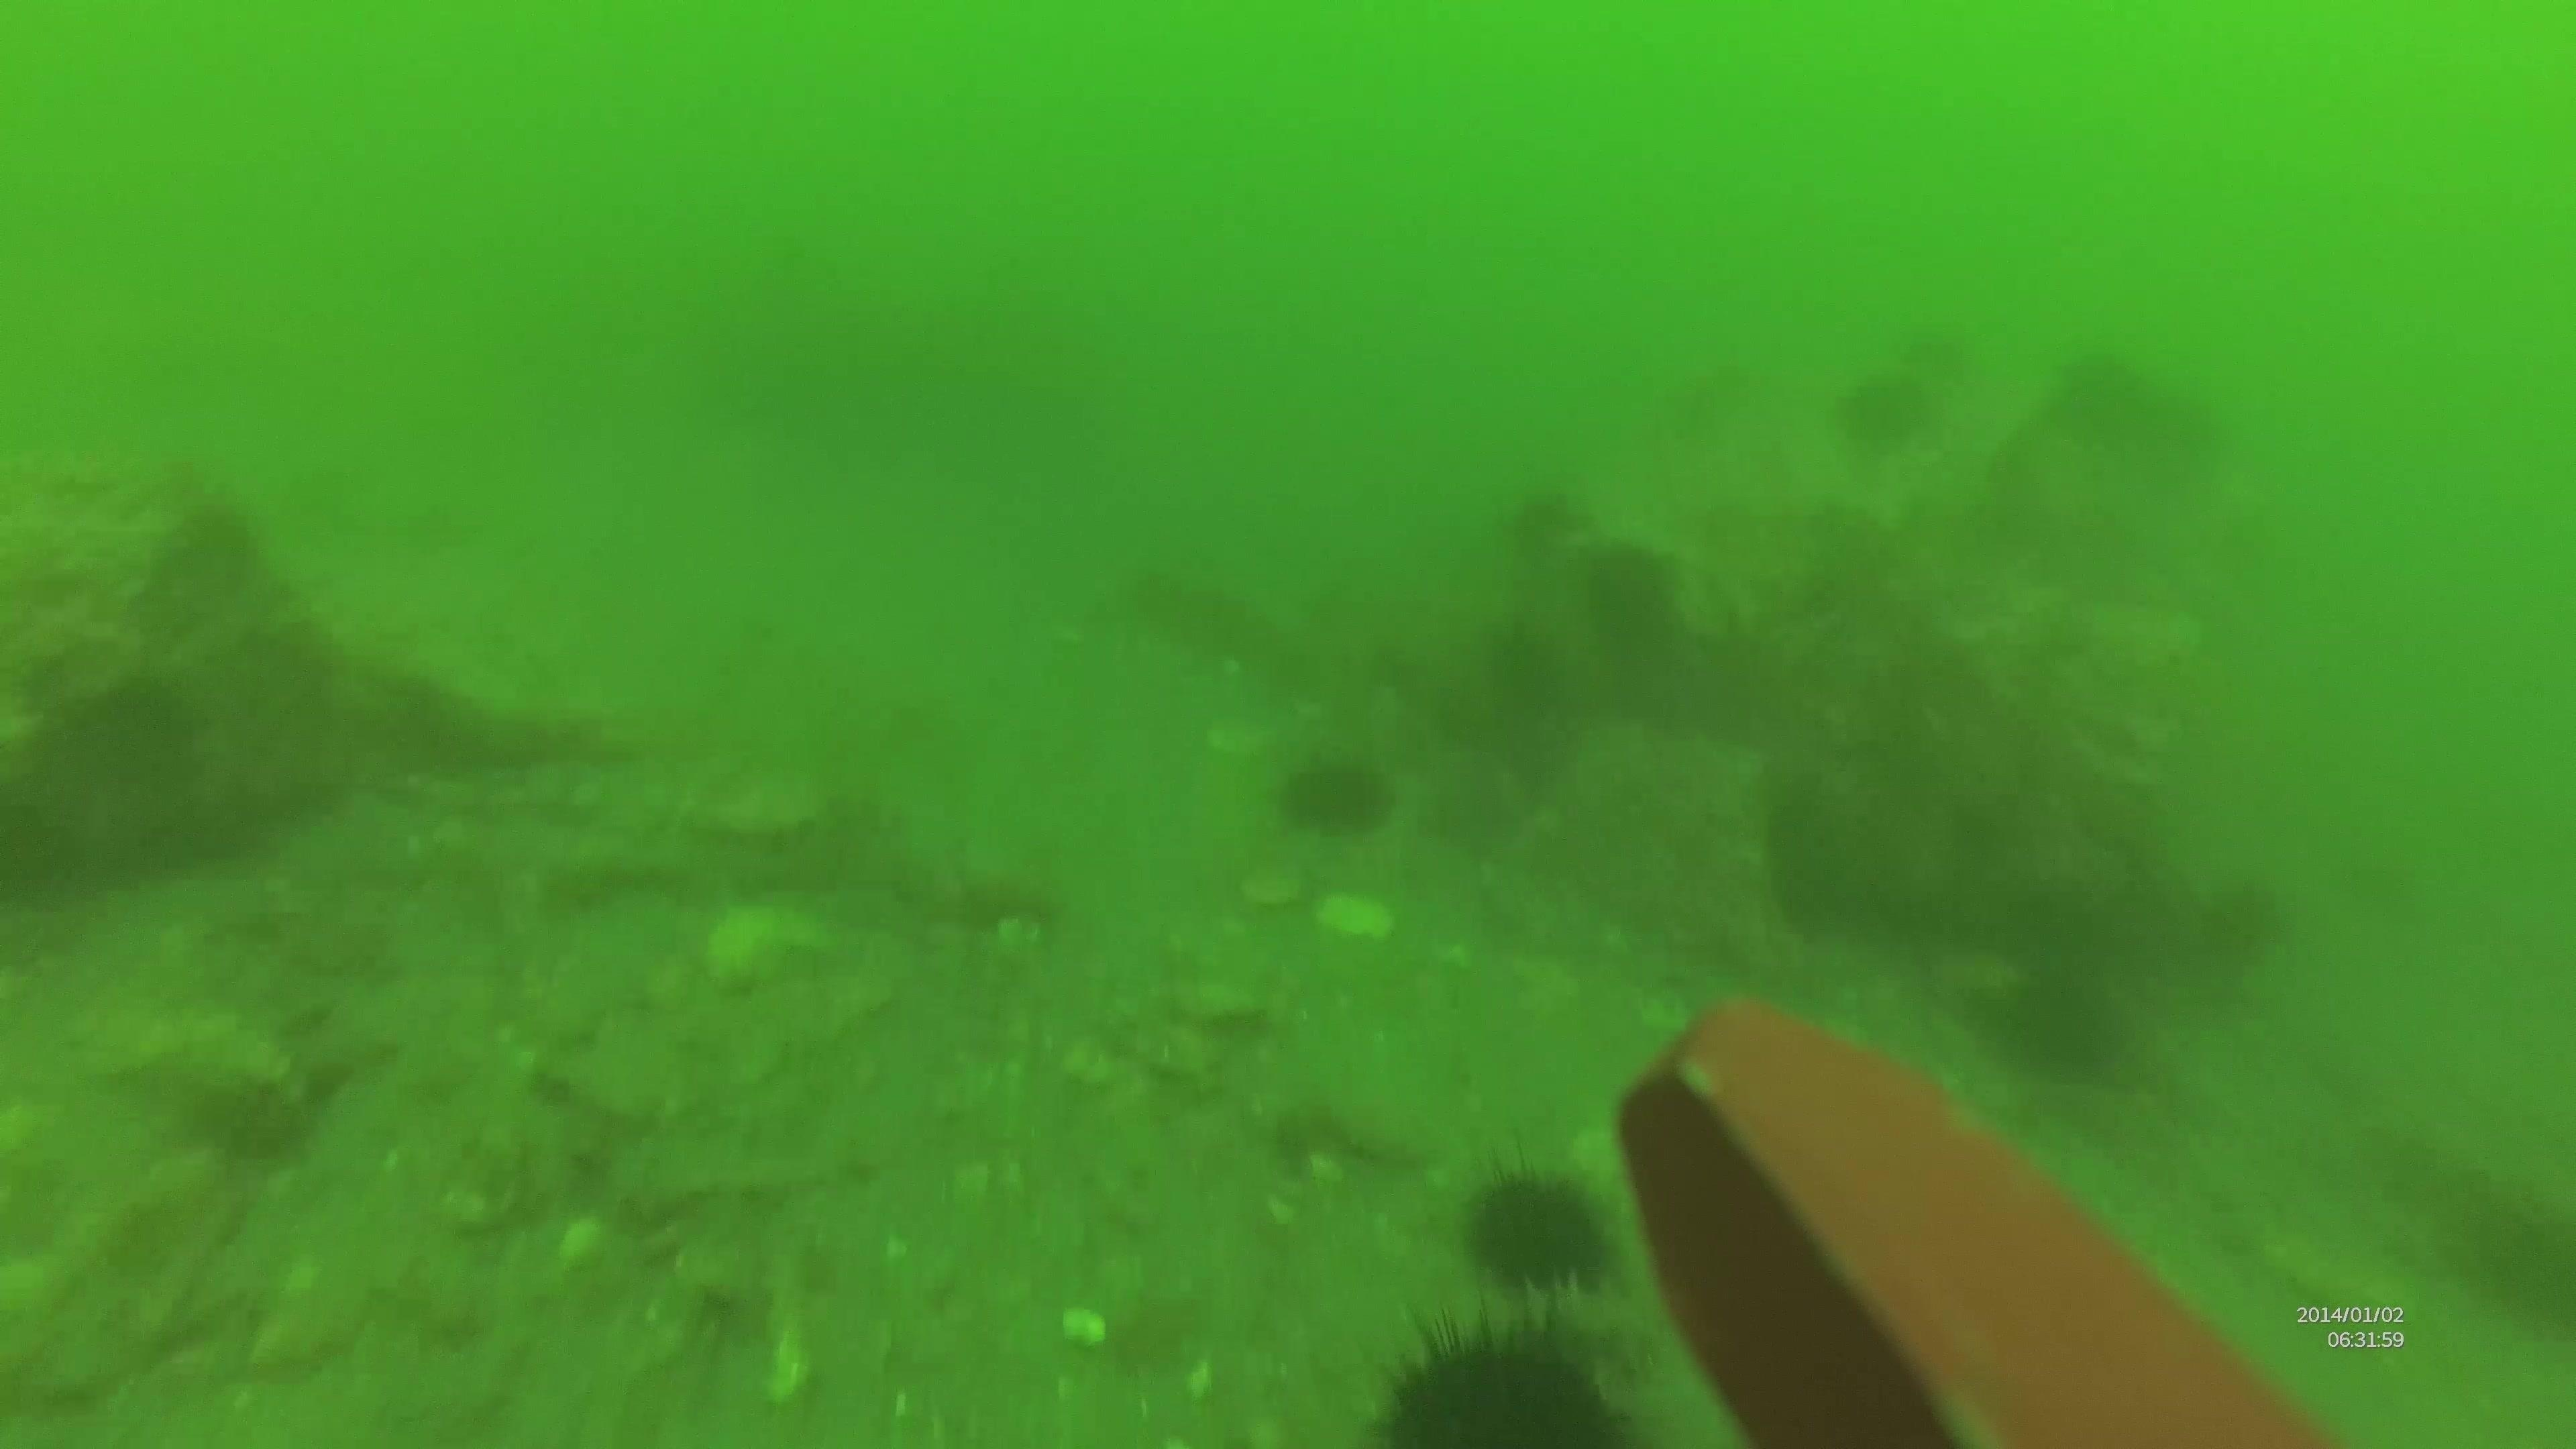echinus: (1361, 1299, 1651, 1444), (1456, 1155, 1621, 1302), (1985, 961, 2135, 1088), (1573, 538, 1684, 655), (1274, 747, 1396, 844), (1831, 364, 1941, 458)
